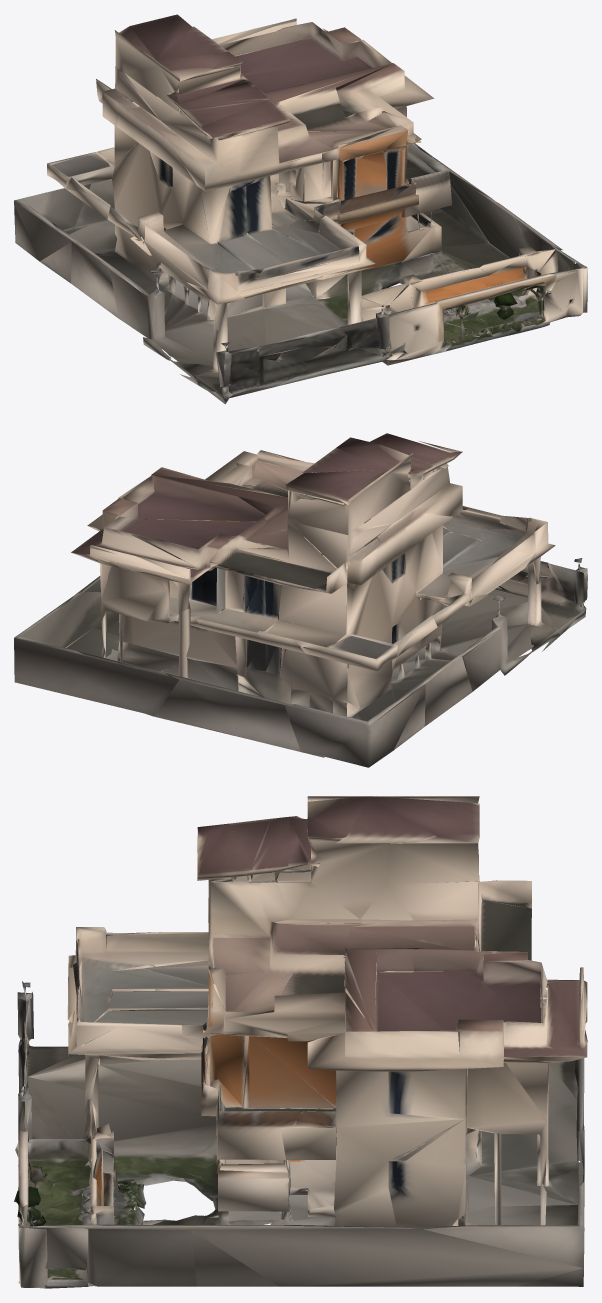
File: World8131d62c08.glb
The picture shows the model from 3 angles, top to bottom: view 1: azimuth 30°, elevation 25°; view 2: azimuth 150°, elevation 25°; view 3: azimuth 270°, elevation 25°; orthographic projection. The views are drawn at different scales.
Visible parts, largest first — view 1: World8131d62c08; view 2: World8131d62c08; view 3: World8131d62c08.
Boxes of the visible parts, bbox=[...] form: World8131d62c08: bbox=[14, 14, 587, 404]; World8131d62c08: bbox=[14, 433, 587, 767]; World8131d62c08: bbox=[14, 796, 587, 1288].
Bounding box in the file's own units: 6.81 × 4.14 × 7.02.
Materials: 1 (1 with a texture image).
